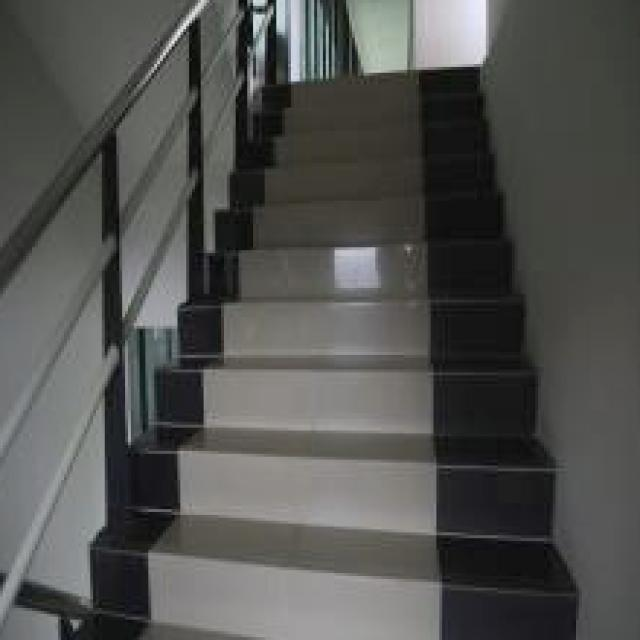upstair: (217, 176, 531, 568)
